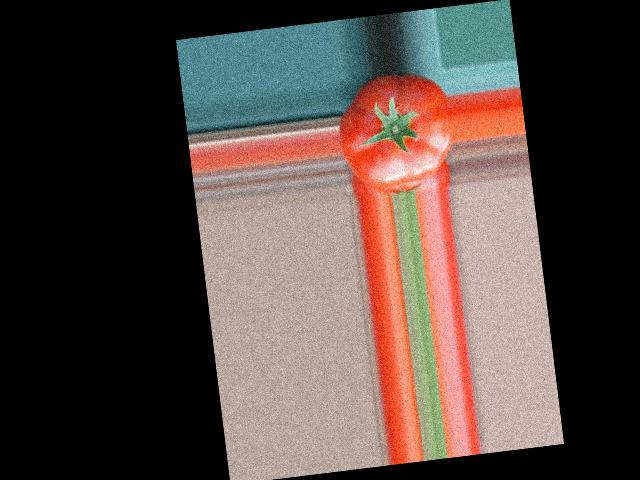tomato: (332, 68, 456, 192)
